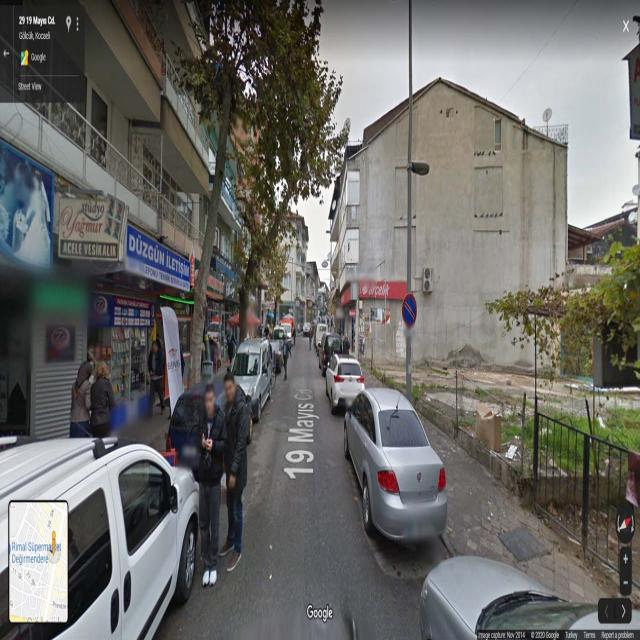parkyasak: (401, 291, 418, 326)
